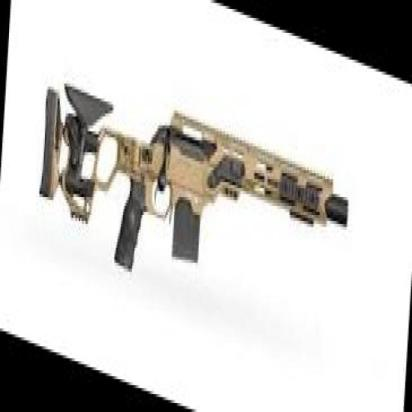Gun: (31, 54, 351, 364)
